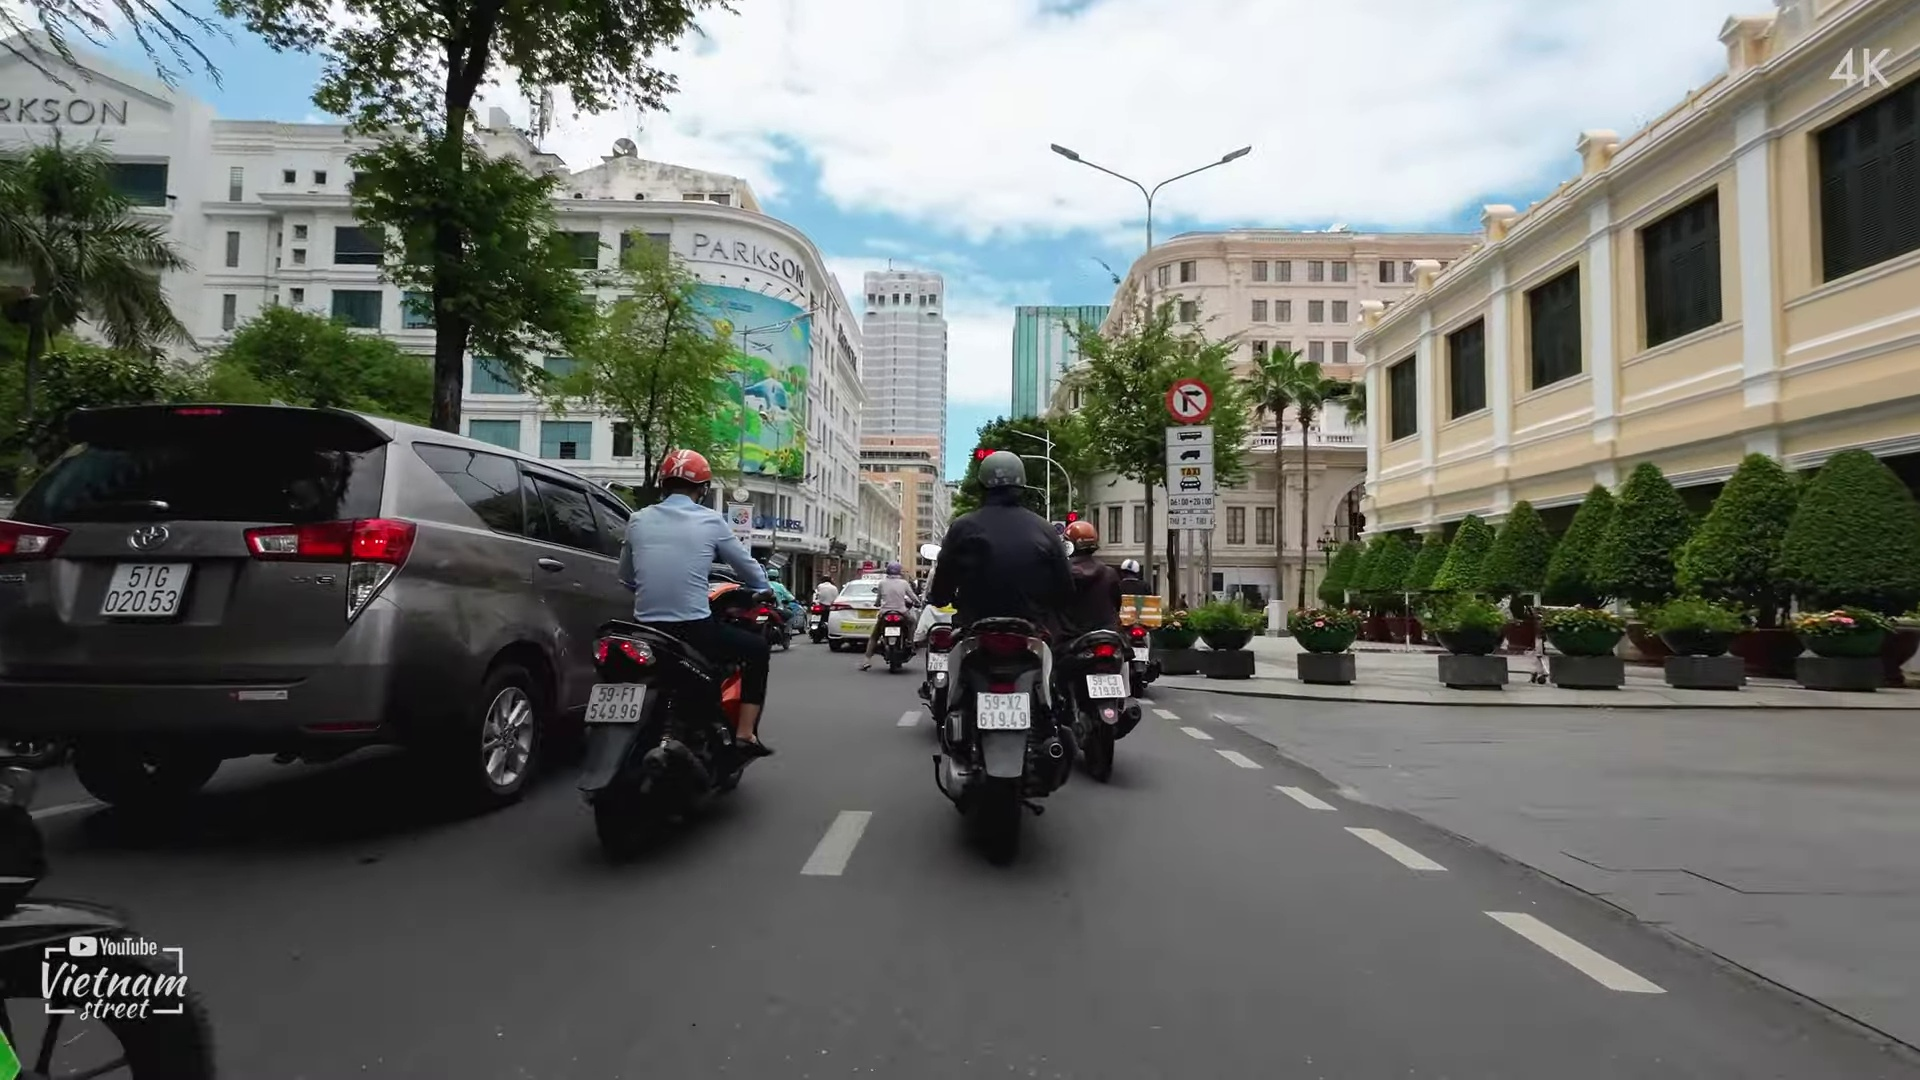cam_re_phai: (1163, 377, 1216, 429)
